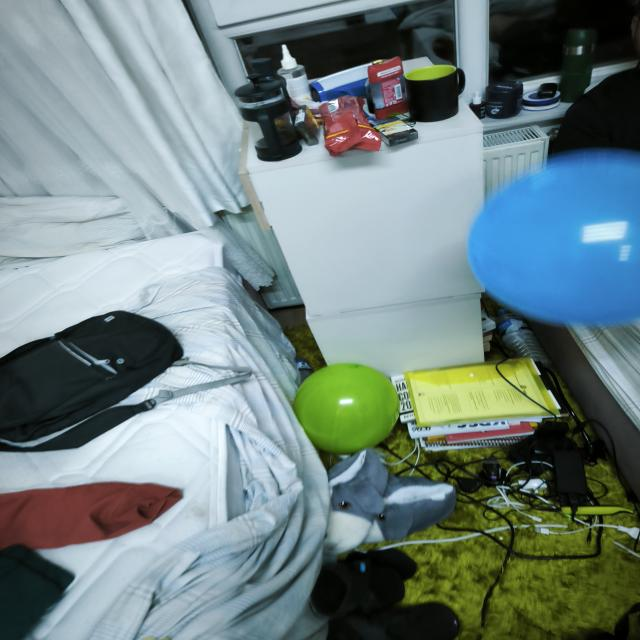balloon: (468, 149, 640, 326), (294, 363, 399, 454)
